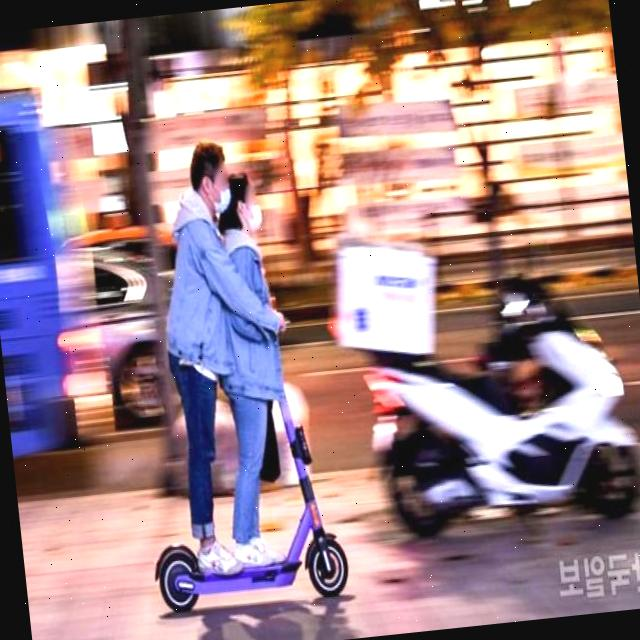bare_head: (178, 148, 239, 221), (222, 172, 268, 236)
human: (165, 138, 238, 574), (213, 171, 286, 569)
kickboard: (152, 525, 369, 615)
